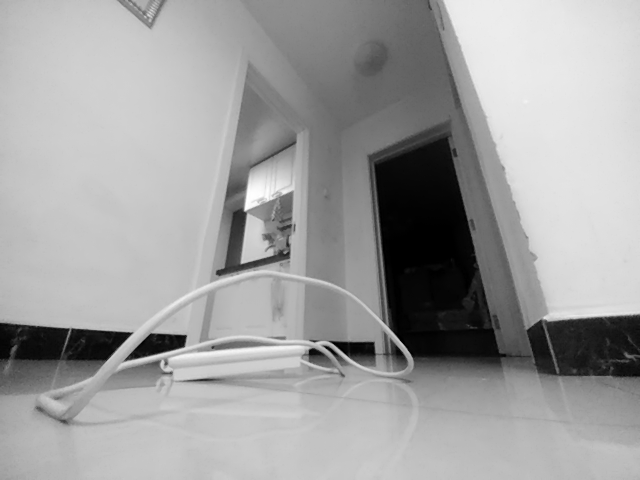power strip: (160, 339, 311, 382)
wire: (36, 299, 160, 426), (307, 271, 416, 381)
